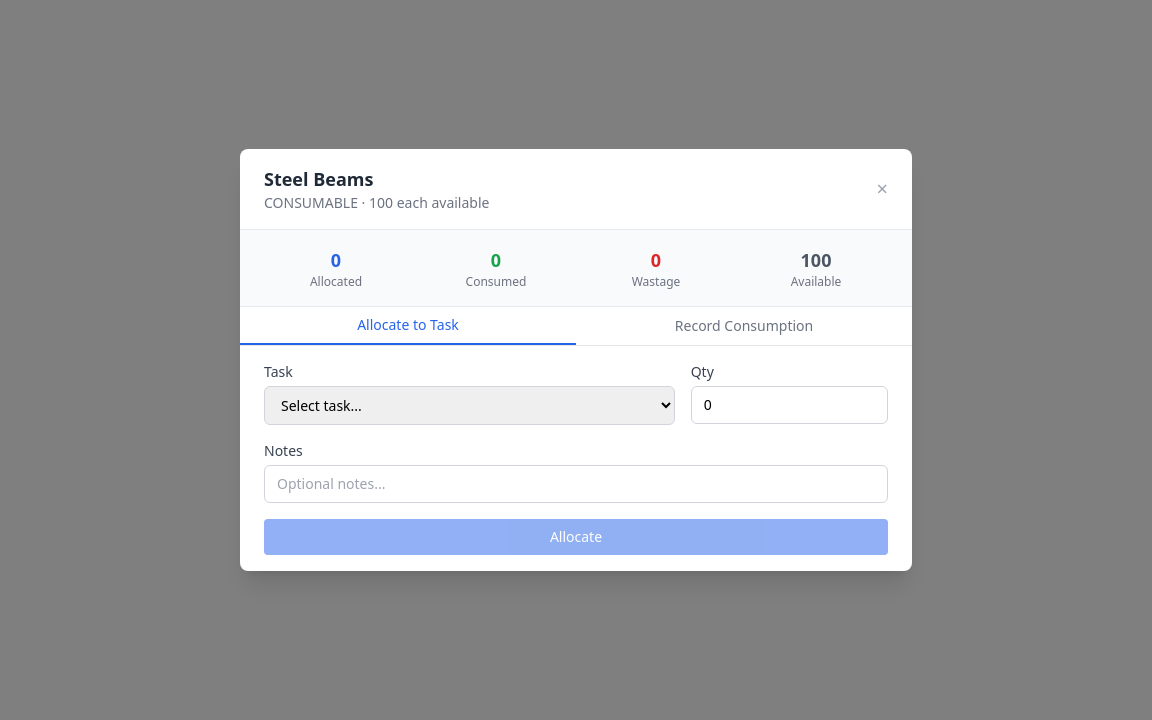
Scenario: MaterialAllocationModal › switches to consume tab
Click the button "Record Consumption": (744, 326) [576,307,912,345]
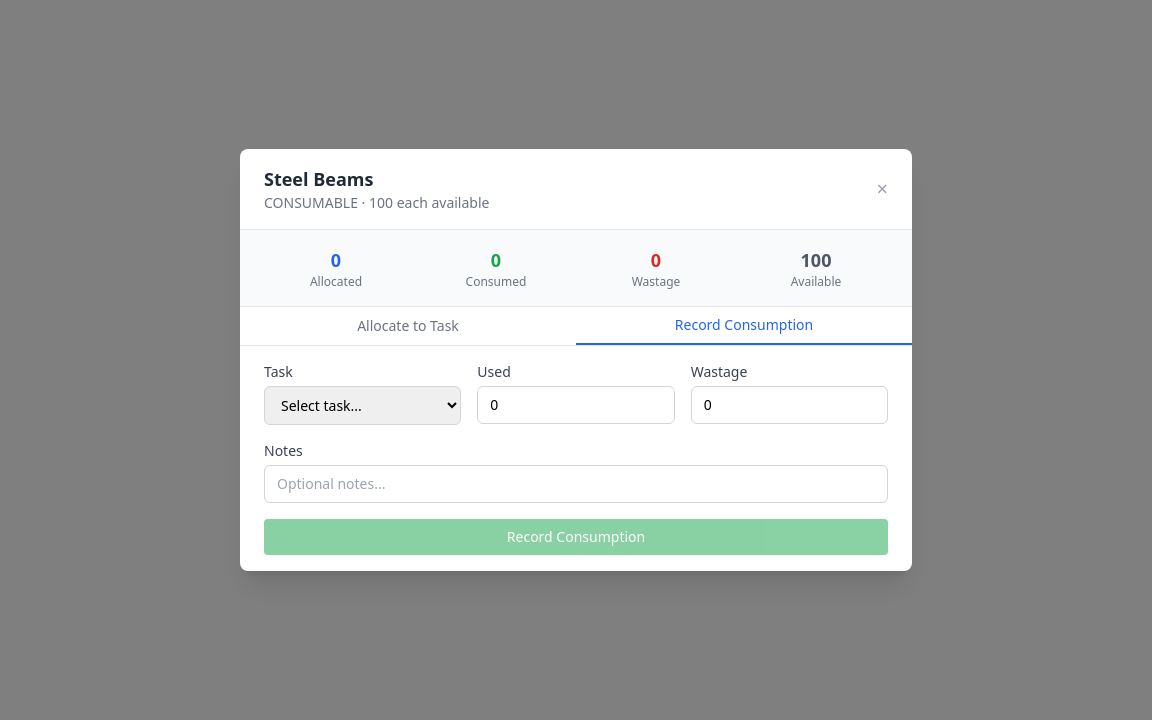
Expected: the number field labelled "Wastage" is shown, [691,386,888,424]
Expected: the number field labelled "Used" is shown, [477,386,675,424]
